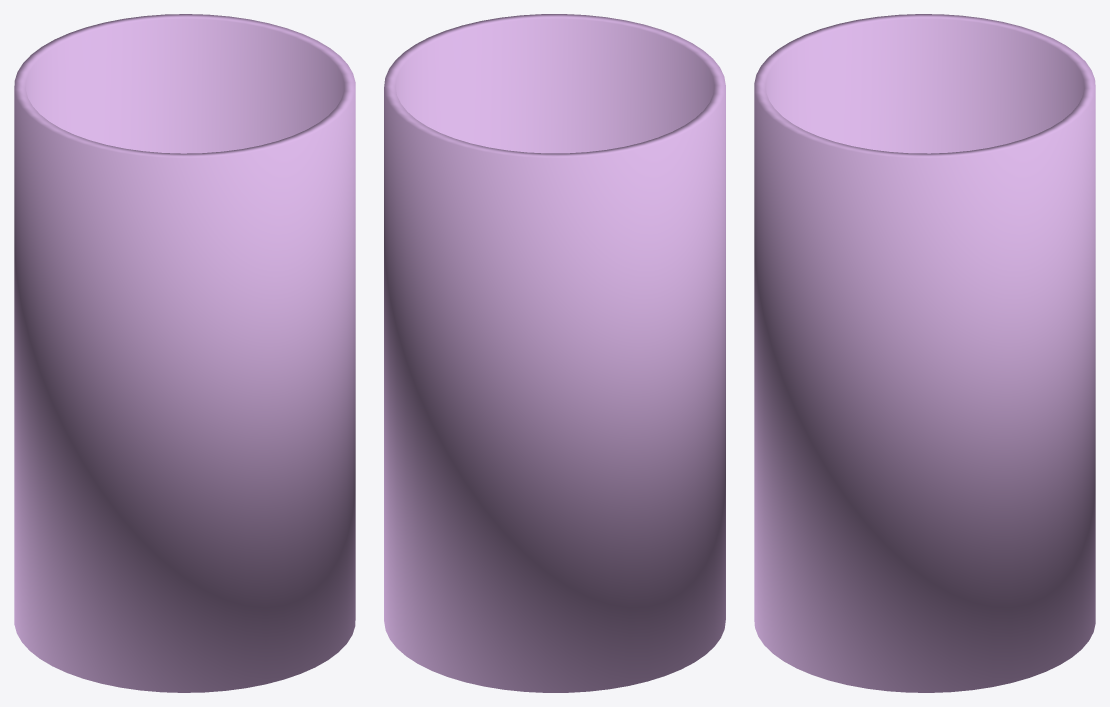
The model's file is DrinkGlass_1.fbx.
The picture shows the model from 3 angles, left to right: view 1: azimuth 30°, elevation 25°; view 2: azimuth 150°, elevation 25°; view 3: azimuth 270°, elevation 25°; orthographic projection.
Parts seen in each view (by area): view 1: DrinkGlass 1; view 2: DrinkGlass 1; view 3: DrinkGlass 1.
Boxes of the visible parts, left/top/right/bottom form: DrinkGlass 1: left=14, top=14, right=355, bottom=692; DrinkGlass 1: left=384, top=14, right=725, bottom=692; DrinkGlass 1: left=754, top=14, right=1095, bottom=692.
Size of the model in its own units: 0.0963 by 0.1664 by 0.0963.
